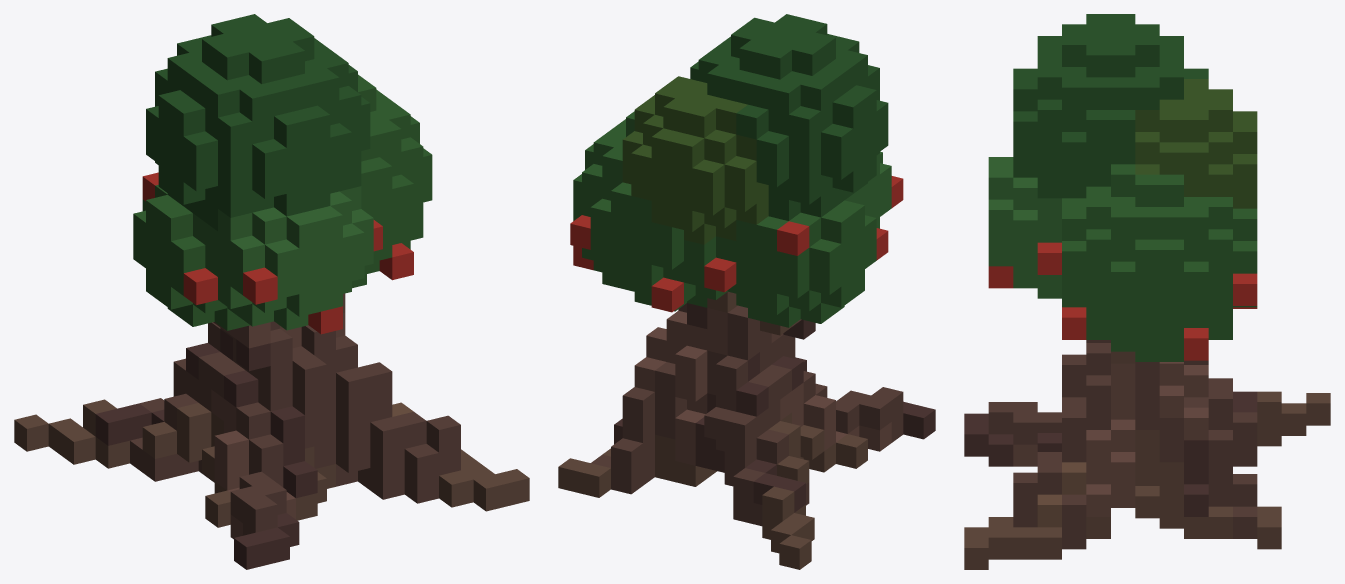
Rendered from granjafinal_arbol.obj.
3 views of the same model, side by side, from view 1: azimuth 30°, elevation 25°; view 2: azimuth 150°, elevation 25°; view 3: azimuth 270°, elevation 25° (orthographic). The views are drawn at different scales.
Bounding box in the file's own units: 1.5 × 2 × 1.5.
1 material, 1 textured.
